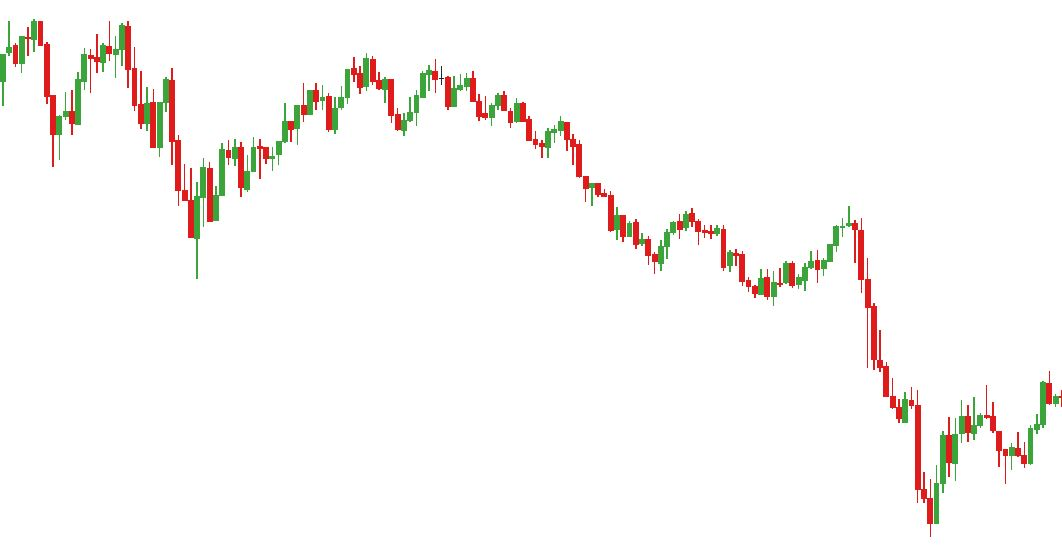sell: (300, 52, 364, 120)
